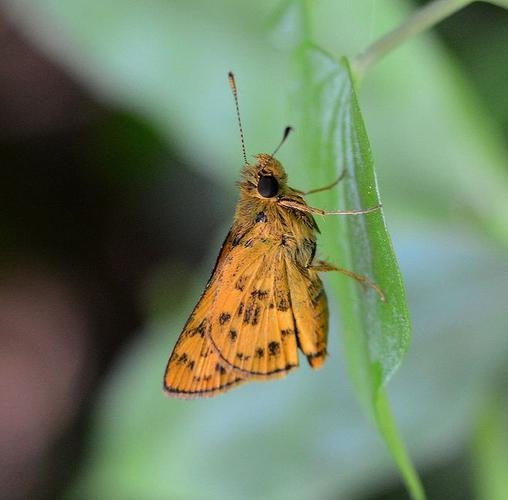Hesperiidae: (161, 69, 382, 403)
